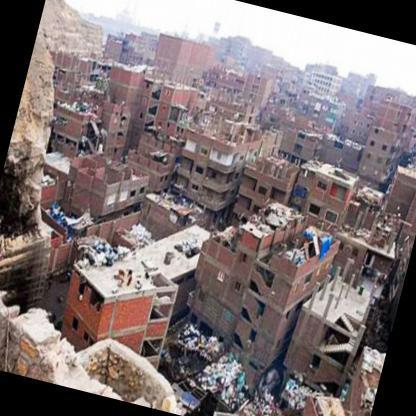Garbage: (202, 354, 246, 408), (72, 232, 128, 270), (177, 324, 225, 367), (240, 395, 308, 415), (281, 374, 318, 410)
